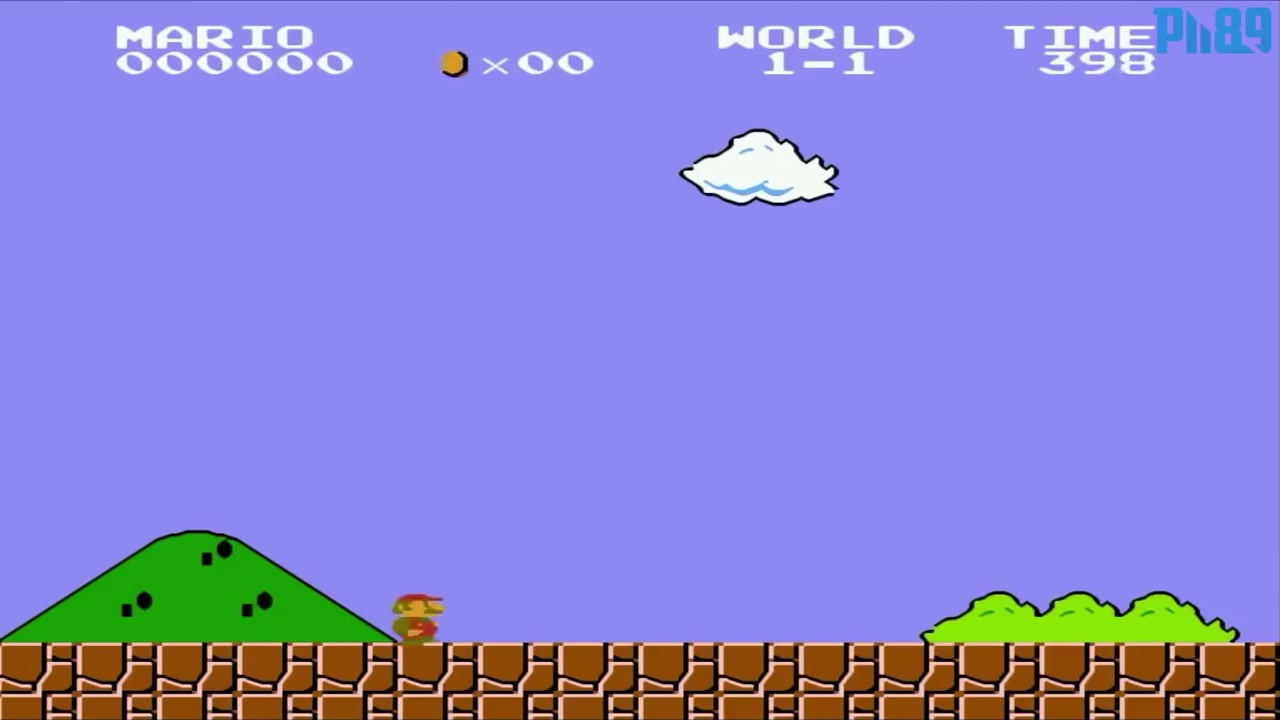mario: (370, 585, 453, 645)
